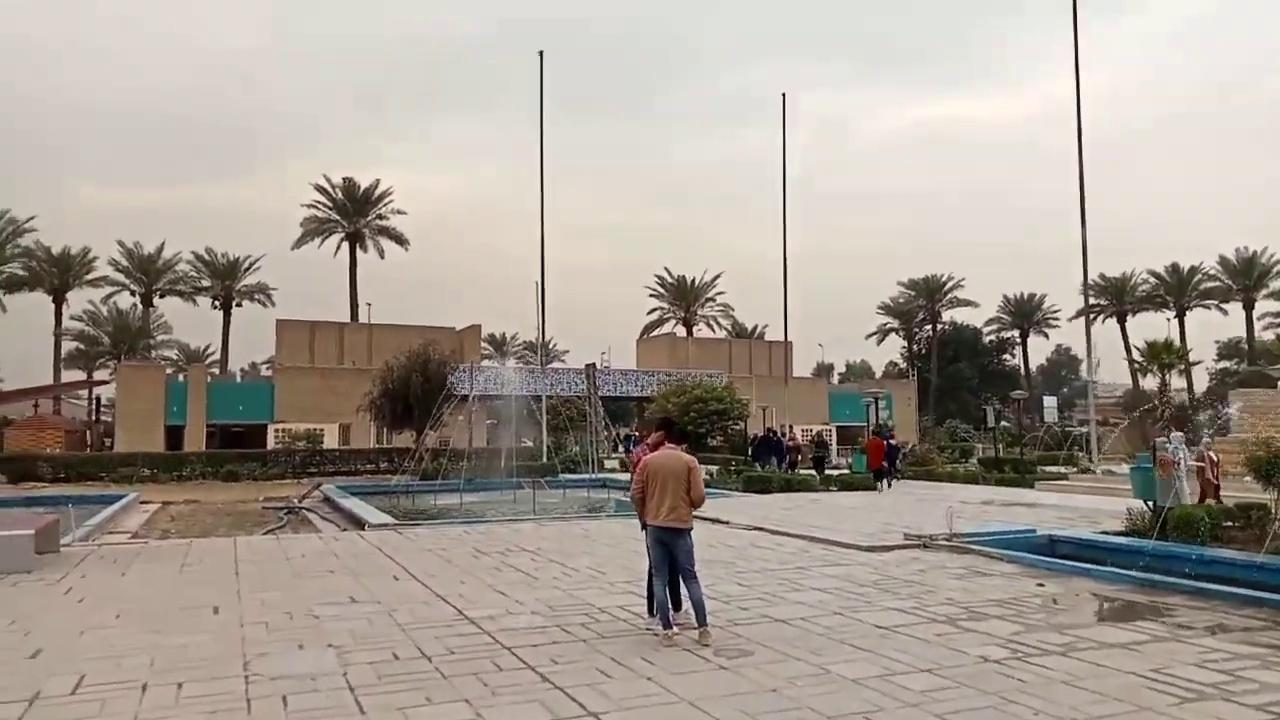fountain: (903, 350, 1280, 593), (737, 366, 1113, 576), (318, 313, 650, 529), (319, 357, 634, 530), (0, 482, 141, 548)
person: (629, 415, 712, 647), (1194, 436, 1223, 504), (1165, 431, 1191, 505), (864, 428, 887, 493), (809, 429, 829, 482)
tree: (290, 172, 410, 322), (2, 238, 104, 411), (1068, 266, 1165, 412), (895, 271, 979, 426), (1141, 259, 1228, 407), (182, 244, 277, 374), (99, 237, 196, 358), (354, 339, 461, 443), (929, 321, 1023, 429), (864, 293, 932, 441), (55, 297, 169, 380), (1204, 244, 1279, 367), (645, 374, 750, 456), (982, 289, 1061, 393), (525, 391, 612, 472), (638, 265, 734, 338), (514, 335, 569, 462), (1126, 335, 1198, 421), (163, 340, 218, 451), (478, 329, 524, 447), (0, 206, 38, 314), (1036, 342, 1084, 421), (60, 339, 111, 406), (514, 335, 569, 369), (479, 329, 523, 365), (722, 319, 768, 340), (838, 357, 875, 383), (238, 355, 274, 381)
